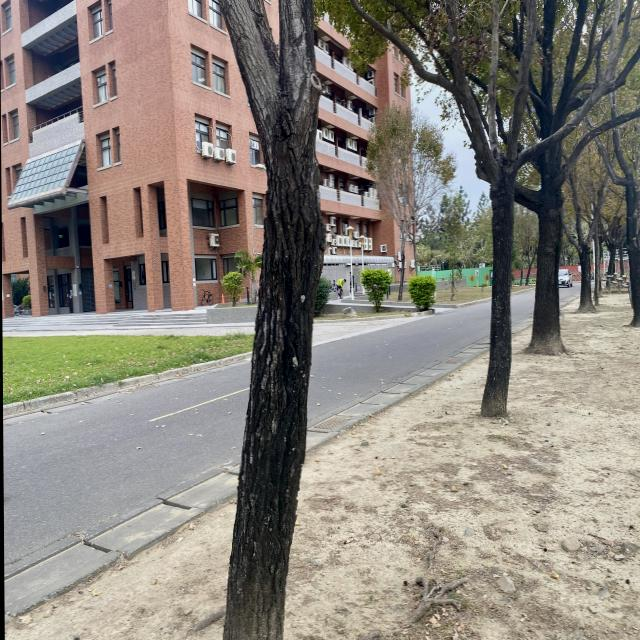tree: (316, 0, 545, 417), (221, 0, 325, 640), (515, 143, 563, 355), (596, 118, 640, 325), (563, 147, 609, 313)
